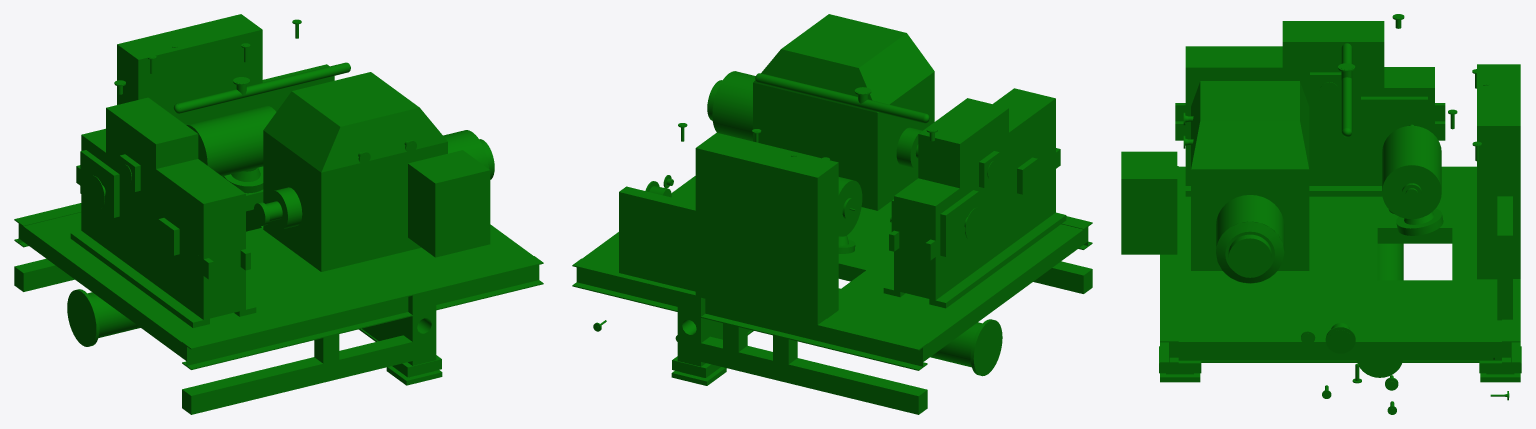
The model's file is Image-1711348063660-2281328306624_27-KA50.fbx.
3 views of the same model, side by side, from view 1: azimuth 30°, elevation 25°; view 2: azimuth 150°, elevation 25°; view 3: azimuth 270°, elevation 25° (orthographic). The views are drawn at different scales.
Visible parts, largest first — view 1: BOX 1 of SUBEQUIPMENT /27-KA50/RAMME, BOX 1 of SUBEQUIPMENT /27-KA50/GENERATOR, PYRAMID 1 of SUBEQUIPMENT /27-KA50/GENERATOR, BOX 1 of SUBEQUIPMENT /27-KA50/GAS_SEAL_INSTR_BOARD, BOX 3 of SUBEQUIPMENT /27-KA50/RAMME, BOX 1 of SUBEQUIPMENT /27-KA50/GEAR, BOX 5 of SUBEQUIPMENT /27-KA50/GENERATOR, BOX 9 of SUBEQUIPMENT /27-KA50/RAMME, BOX 19 of SUBEQUIPMENT /27-KA50/GEAR, BOX 3 of SUBEQUIPMENT /27-KA50/GEAR, CYLINDER 2 of SUBEQUIPMENT /27-KA50/COMPRESSOR, BOX 18 of SUBEQUIPMENT /27-KA50/GEAR (+15 smaller); view 2: BOX 1 of SUBEQUIPMENT /27-KA50/GAS_SEAL_INSTR_BOARD, BOX 1 of SUBEQUIPMENT /27-KA50/RAMME, BOX 1 of SUBEQUIPMENT /27-KA50/GENERATOR, PYRAMID 1 of SUBEQUIPMENT /27-KA50/GENERATOR, BOX 4 of SUBEQUIPMENT /27-KA50/RAMME, BOX 1 of SUBEQUIPMENT /27-KA50/GEAR, BOX 1 of SUBEQUIPMENT /27-KA50/RIO_CABINET, BOX 5 of SUBEQUIPMENT /27-KA50/RAMME, BOX 19 of SUBEQUIPMENT /27-KA50/GEAR, BOX 3 of SUBEQUIPMENT /27-KA50/GEAR, CYLINDER 5 of SUBEQUIPMENT /27-KA50/GENERATOR, BOX 2 of SUBEQUIPMENT /27-KA50/GEAR (+13 smaller); view 3: BOX 1 of SUBEQUIPMENT /27-KA50/RAMME, PYRAMID 1 of SUBEQUIPMENT /27-KA50/GENERATOR, BOX 1 of SUBEQUIPMENT /27-KA50/GAS_SEAL_INSTR_BOARD, BOX 1 of SUBEQUIPMENT /27-KA50/GENERATOR, BOX 5 of SUBEQUIPMENT /27-KA50/GENERATOR, BOX 19 of SUBEQUIPMENT /27-KA50/GEAR, BOX 1 of SUBEQUIPMENT /27-KA50/GEAR, CYLINDER 2 of SUBEQUIPMENT /27-KA50/COMPRESSOR, BOX 18 of SUBEQUIPMENT /27-KA50/GEAR, BOX 3 of SUBEQUIPMENT /27-KA50/GEAR, BOX 3 of SUBEQUIPMENT /27-KA50/RAMME, BOX 1 of SUBEQUIPMENT /27-KA50/RIO_CABINET (+19 smaller).
Boxes of the visible parts, x1,y1,x2,y2 form: BOX 1 of SUBEQUIPMENT /27-KA50/RAMME: (19, 189, 533, 360); BOX 1 of SUBEQUIPMENT /27-KA50/GENERATOR: (263, 136, 447, 271); PYRAMID 1 of SUBEQUIPMENT /27-KA50/GENERATOR: (263, 72, 447, 172); BOX 1 of SUBEQUIPMENT /27-KA50/GAS_SEAL_INSTR_BOARD: (117, 14, 262, 124); BOX 3 of SUBEQUIPMENT /27-KA50/RAMME: (182, 256, 543, 369); BOX 1 of SUBEQUIPMENT /27-KA50/GEAR: (76, 165, 250, 319); BOX 5 of SUBEQUIPMENT /27-KA50/GENERATOR: (408, 150, 490, 257); BOX 9 of SUBEQUIPMENT /27-KA50/RAMME: (182, 335, 412, 414); BOX 19 of SUBEQUIPMENT /27-KA50/GEAR: (106, 97, 198, 188); BOX 3 of SUBEQUIPMENT /27-KA50/GEAR: (81, 128, 245, 259); CYLINDER 2 of SUBEQUIPMENT /27-KA50/COMPRESSOR: (186, 105, 276, 176); BOX 18 of SUBEQUIPMENT /27-KA50/GEAR: (156, 159, 245, 223); BOX 1 of SUBEQUIPMENT /27-KA50/GAS_SEAL_INSTR_BOARD: (695, 132, 838, 325); BOX 1 of SUBEQUIPMENT /27-KA50/RAMME: (582, 176, 1088, 361); BOX 1 of SUBEQUIPMENT /27-KA50/GENERATOR: (753, 77, 934, 210); PYRAMID 1 of SUBEQUIPMENT /27-KA50/GENERATOR: (753, 14, 934, 112); BOX 4 of SUBEQUIPMENT /27-KA50/RAMME: (572, 258, 927, 370); BOX 1 of SUBEQUIPMENT /27-KA50/GEAR: (889, 148, 1060, 300); BOX 1 of SUBEQUIPMENT /27-KA50/RIO_CABINET: (619, 186, 695, 291); BOX 5 of SUBEQUIPMENT /27-KA50/RAMME: (701, 336, 927, 414); BOX 19 of SUBEQUIPMENT /27-KA50/GEAR: (918, 98, 1008, 188); BOX 3 of SUBEQUIPMENT /27-KA50/GEAR: (894, 118, 1055, 240); CYLINDER 5 of SUBEQUIPMENT /27-KA50/GENERATOR: (712, 71, 755, 141); BOX 2 of SUBEQUIPMENT /27-KA50/GEAR: (883, 212, 1066, 308); BOX 1 of SUBEQUIPMENT /27-KA50/RAMME: (1169, 166, 1511, 357); PYRAMID 1 of SUBEQUIPMENT /27-KA50/GENERATOR: (1191, 81, 1309, 169); BOX 1 of SUBEQUIPMENT /27-KA50/GAS_SEAL_INSTR_BOARD: (1477, 64, 1520, 279); BOX 1 of SUBEQUIPMENT /27-KA50/GENERATOR: (1191, 175, 1309, 270); BOX 5 of SUBEQUIPMENT /27-KA50/GENERATOR: (1121, 151, 1177, 254); BOX 19 of SUBEQUIPMENT /27-KA50/GEAR: (1282, 21, 1384, 87); BOX 1 of SUBEQUIPMENT /27-KA50/GEAR: (1175, 103, 1445, 185); CYLINDER 2 of SUBEQUIPMENT /27-KA50/COMPRESSOR: (1382, 125, 1441, 219); BOX 18 of SUBEQUIPMENT /27-KA50/GEAR: (1185, 46, 1282, 87); BOX 3 of SUBEQUIPMENT /27-KA50/GEAR: (1185, 67, 1434, 123); BOX 3 of SUBEQUIPMENT /27-KA50/RAMME: (1160, 166, 1178, 363); BOX 1 of SUBEQUIPMENT /27-KA50/RIO_CABINET: (1497, 196, 1512, 320).
Bounding box in the file's own units: 6.86 × 6.43 × 4.68.
